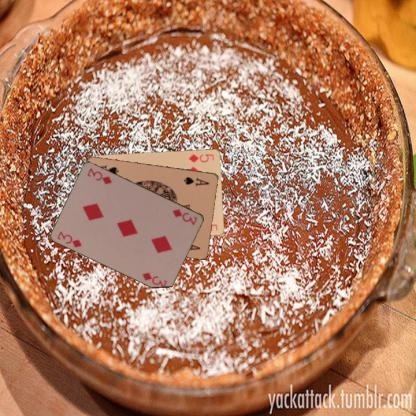3d: (54, 228, 84, 249), (170, 206, 199, 226)
5d: (186, 152, 215, 164)
As: (182, 174, 210, 187)
